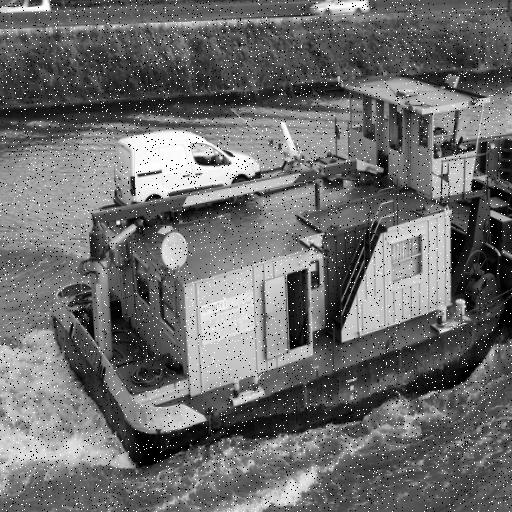tugboat: (55, 65, 512, 494)
